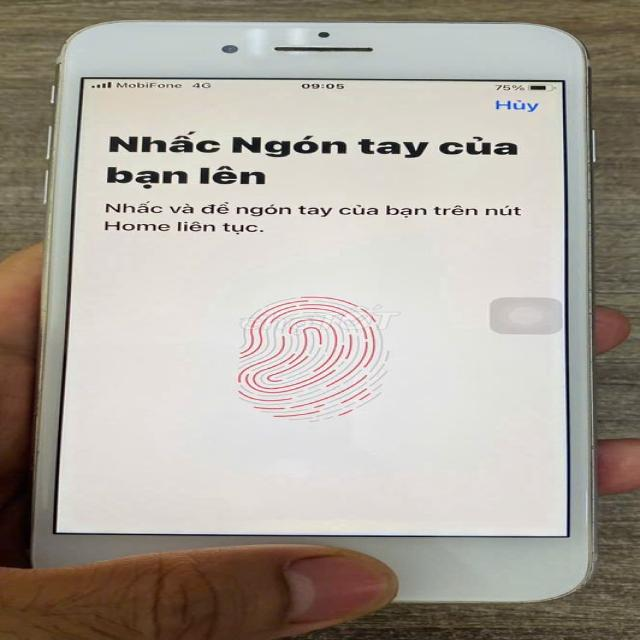gen_7_8: (29, 14, 607, 616)
